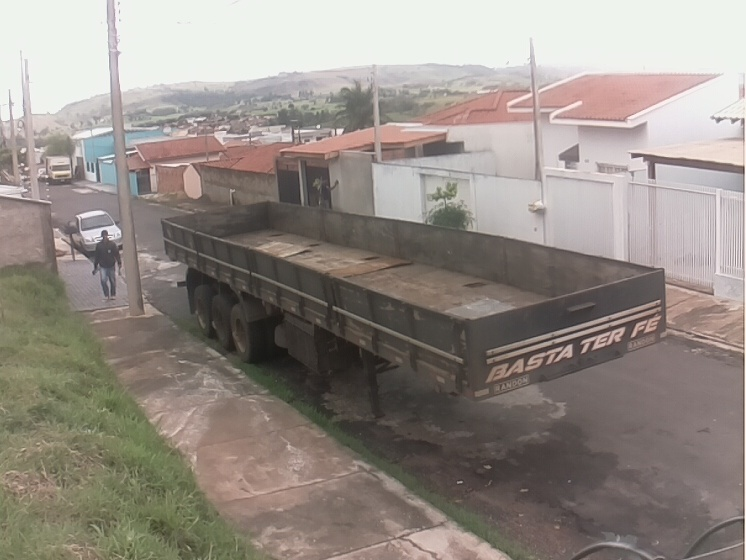person: (88, 228, 124, 303)
